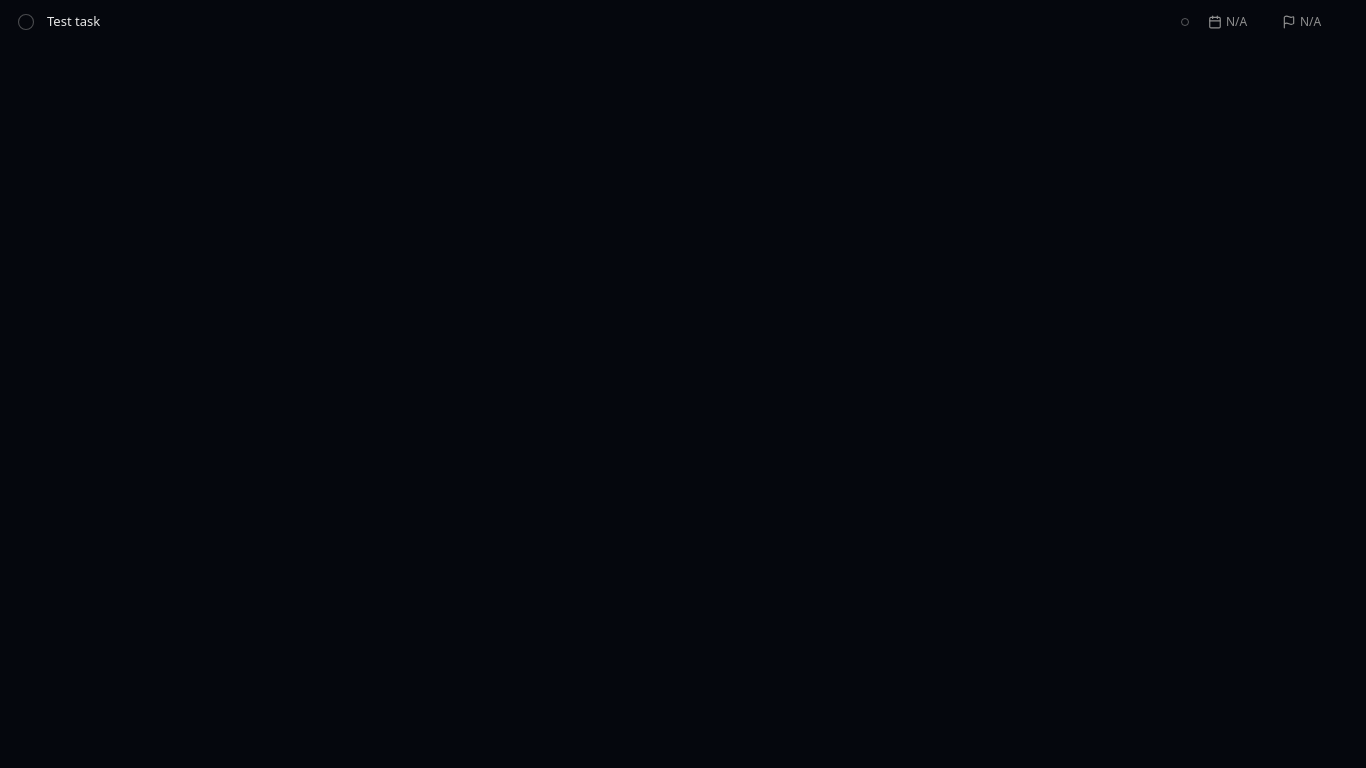
Test: TaskItem (collapsed) › opens calendar popover when deadline button is clicked
This screenshot has width=1366, height=768.
Click the 2nd button "N/A" at [1312, 22], box [1276,10,1348,34]
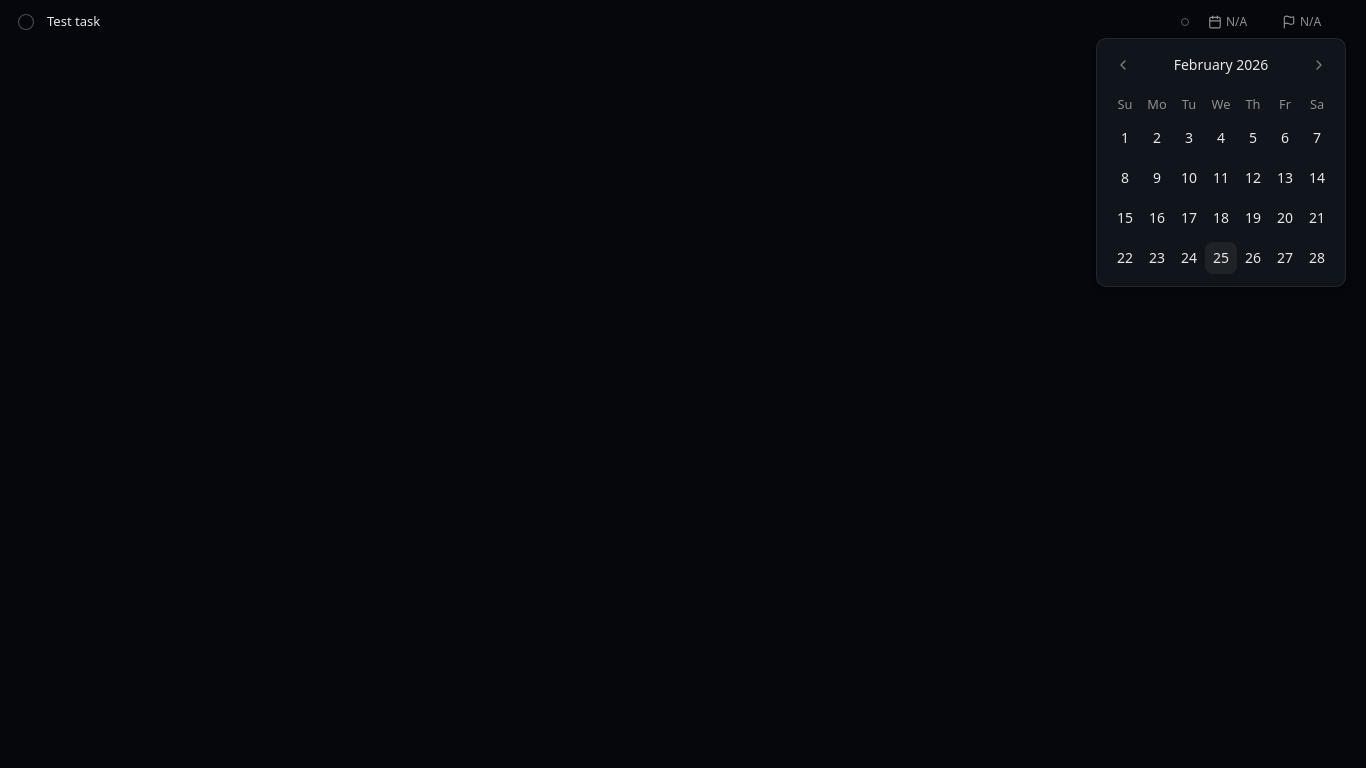
expect the table is shown: met, box [1109,95,1333,274]
